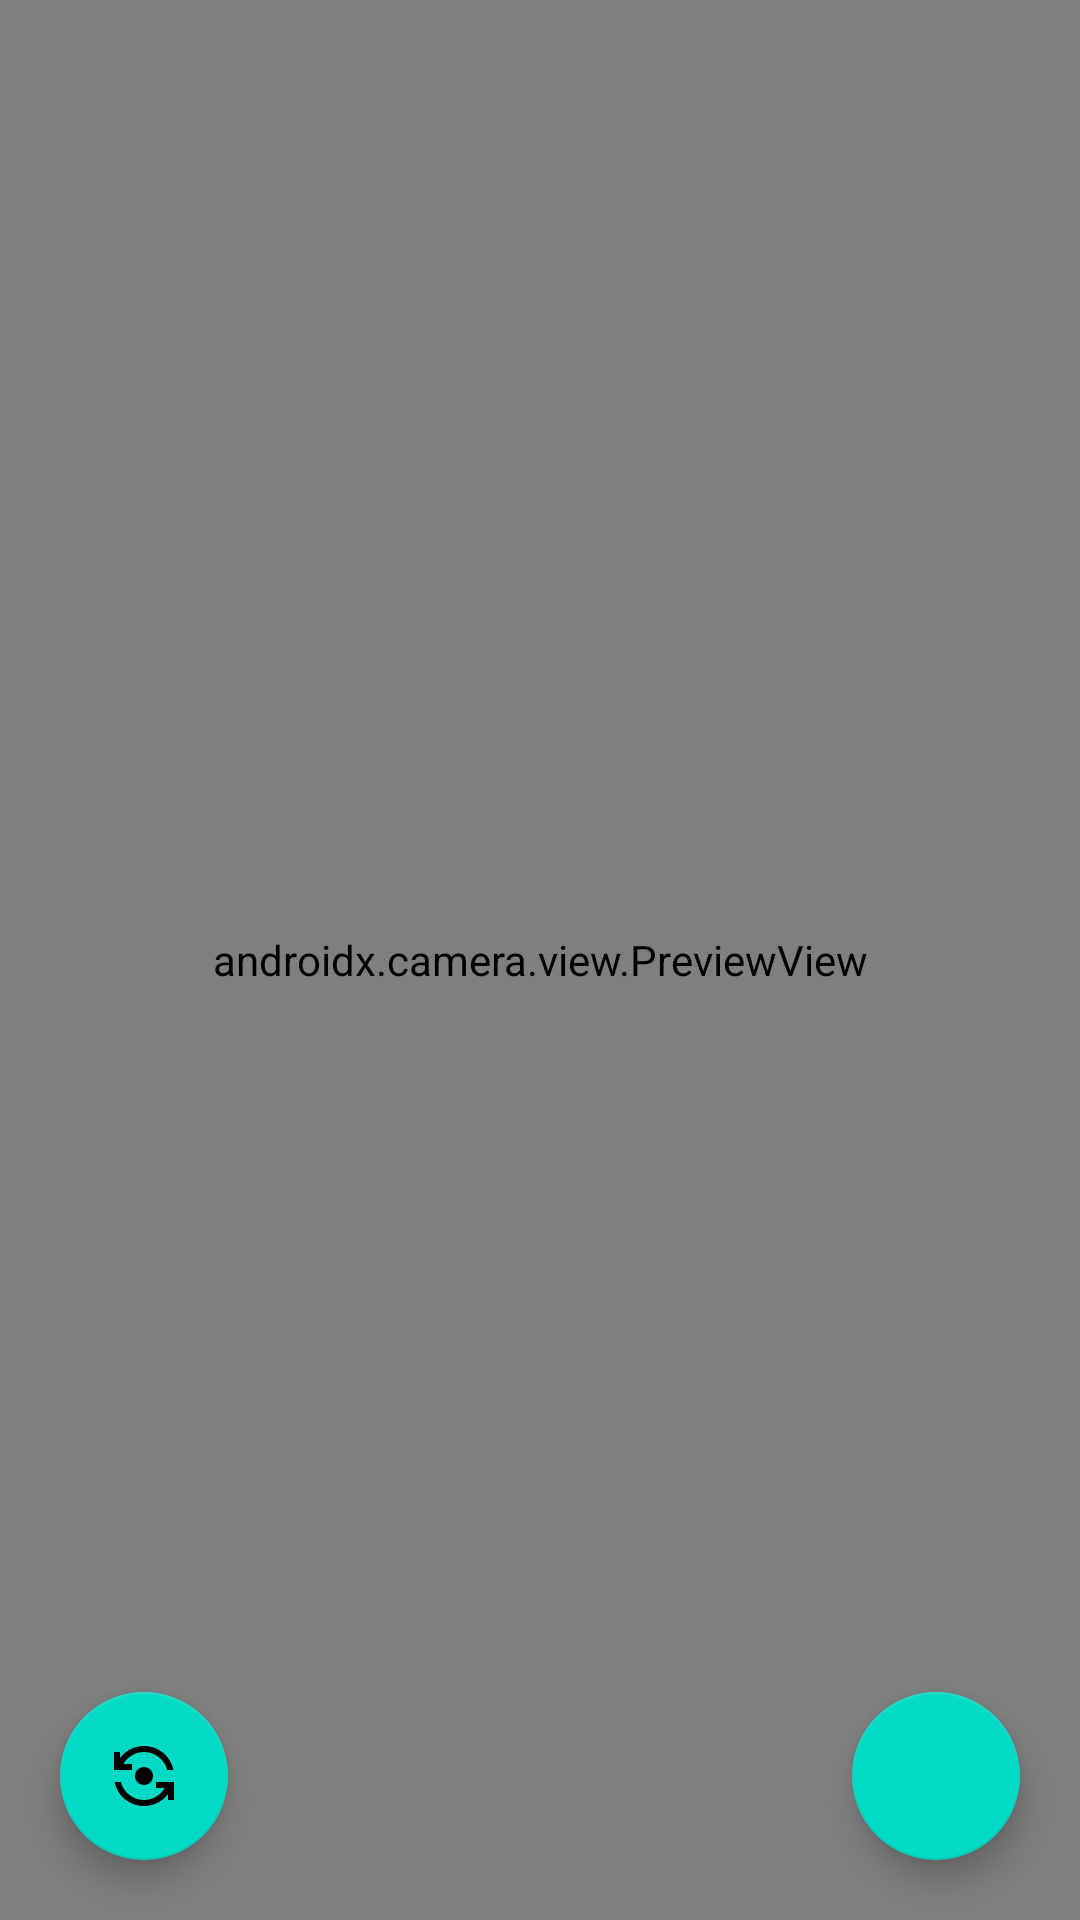

Locate icon controls on the screen. Image size 1080 × 1920, boxes as rect(x1, y1, x2, y2).
flip camera android: rect(60, 1692, 228, 1860)
